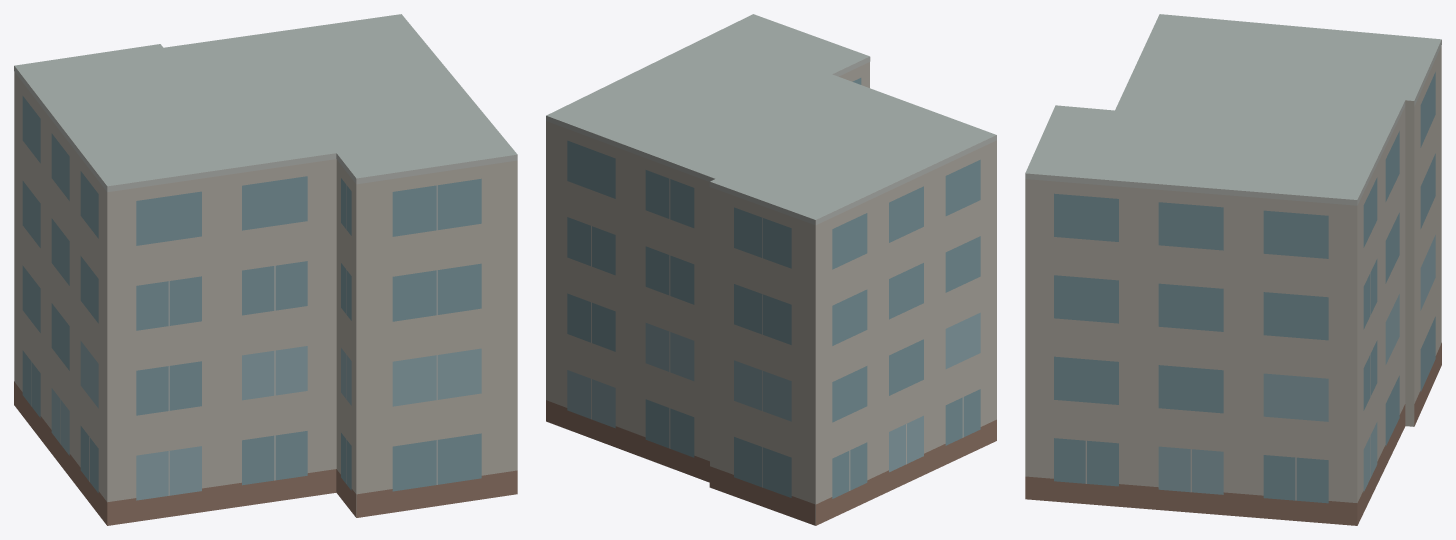
File: survey-upis-32862080.glb
3 views of the same model, side by side, from view 1: azimuth 30°, elevation 25°; view 2: azimuth 150°, elevation 25°; view 3: azimuth 270°, elevation 25° (orthographic). The views are drawn at different scales.
Visible parts, largest first — view 1: survey-upis-32862080.tmp; view 2: survey-upis-32862080.tmp; view 3: survey-upis-32862080.tmp.
Boxes of the visible parts, <box> form: survey-upis-32862080.tmp: <box>14,14,517,525</box>; survey-upis-32862080.tmp: <box>546,14,996,525</box>; survey-upis-32862080.tmp: <box>1025,14,1441,525</box>.
Bounding box in the file's own units: 17.25 × 14.08 × 16.33.
